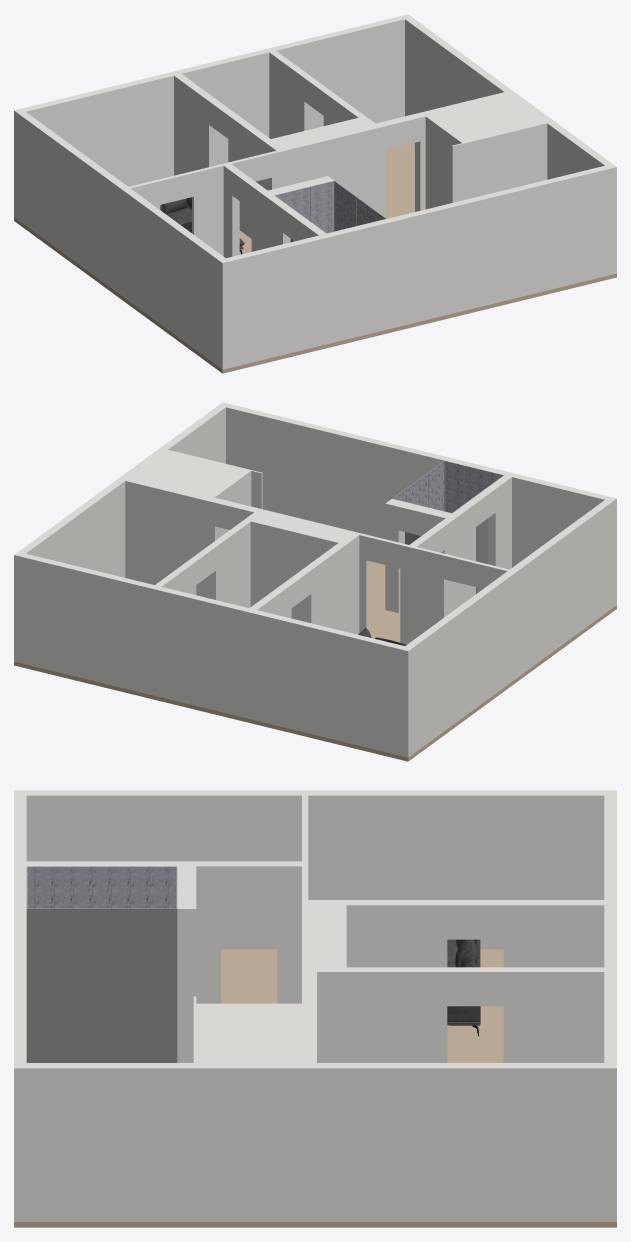
File: flat_walk.glb
3 views of the same model, one above another, from view 1: azimuth 30°, elevation 25°; view 2: azimuth 150°, elevation 25°; view 3: azimuth 270°, elevation 25° (orthographic). The views are drawn at different scales.
Visible parts, largest first — view 1: Стены, Пол, Плитка; view 2: Стены, Пол, Плитка, Затирка; view 3: Стены, Затирка, Пол, Плитка, back, pillow_1.
Part boxes in pixels (box(x1,y1,x2,y2)): Стены: box(14, 14, 616, 369); Пол: box(14, 143, 616, 373); Плитка: box(275, 181, 385, 233); Стены: box(14, 402, 616, 757); Пол: box(14, 561, 616, 761); Плитка: box(392, 460, 503, 513); Затирка: box(392, 463, 498, 593); Стены: box(14, 790, 616, 1221); Затирка: box(26, 867, 177, 1062); Пол: box(14, 949, 616, 1227); Плитка: box(26, 866, 177, 908); back: box(447, 939, 480, 1025); pillow_1: box(455, 939, 477, 967).
Bounding box in the file's own units: 10.46 × 2.8 × 9.59.
Materials: 11 (8 with a texture image).
